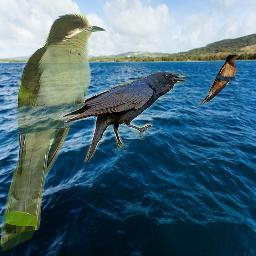Crow: (60, 71, 187, 163)
Cuckoo: (0, 13, 107, 251)
Swallow: (198, 53, 238, 106)
